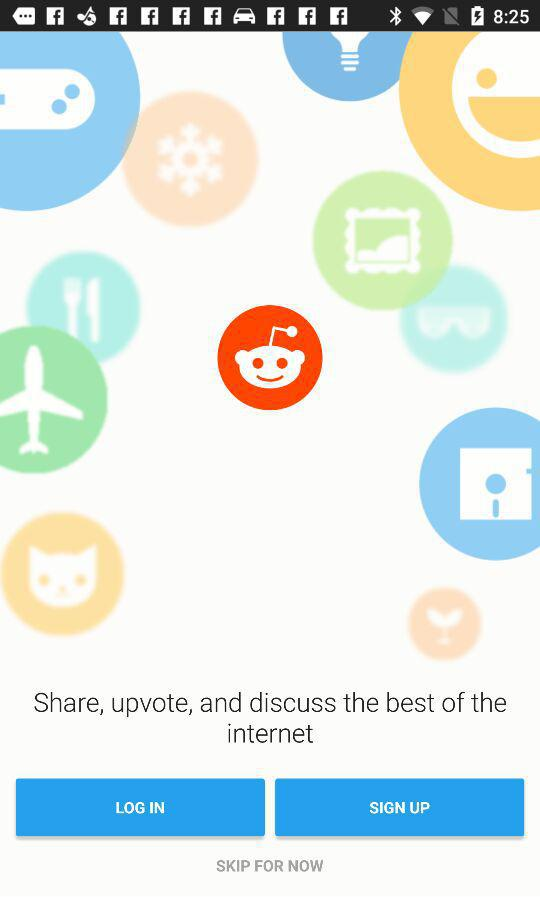Image: (1, 33, 540, 664)
Text: (34, 691, 507, 744), (217, 858, 324, 873)
TextButton: (275, 778, 525, 837), (16, 778, 266, 837)
UpperTaskBar: (1, 1, 540, 33)
